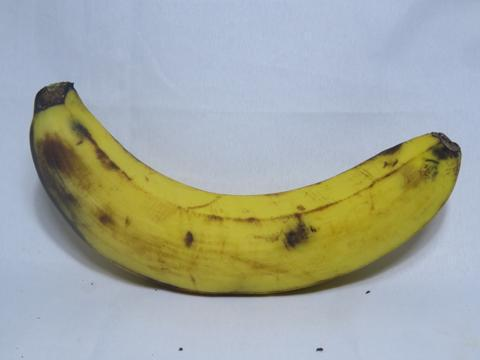ripe: (22, 63, 475, 310)
